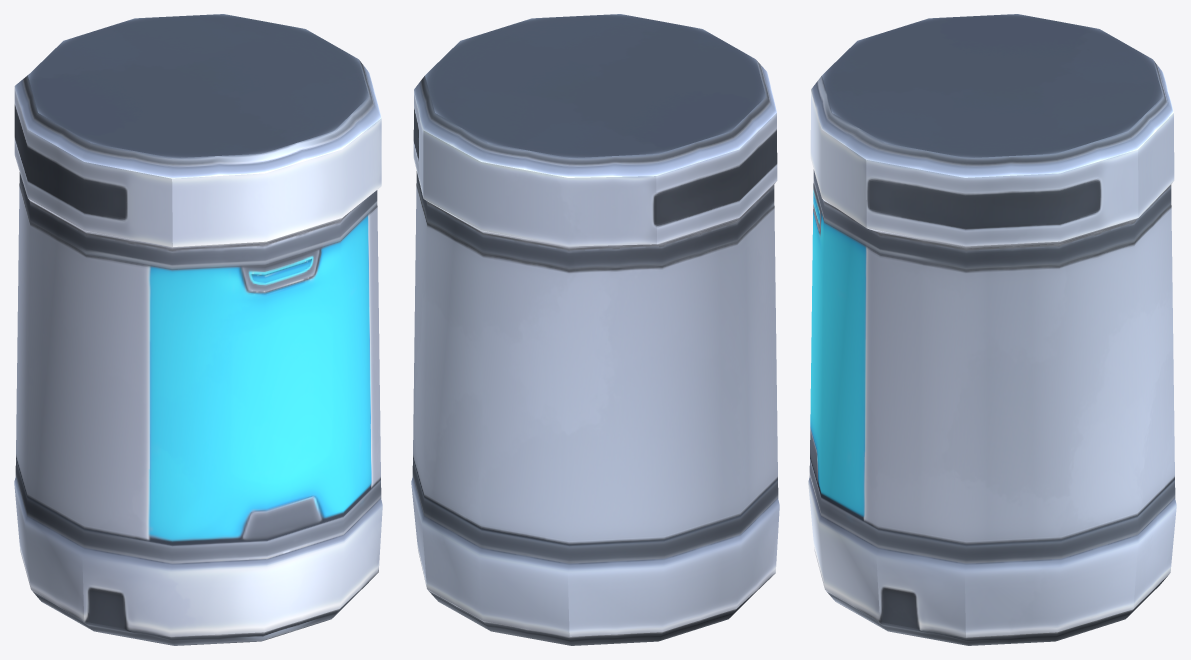
The model's file is obj_container.gltf.
3 renders of one model, left to right at view 1: azimuth 30°, elevation 25°; view 2: azimuth 150°, elevation 25°; view 3: azimuth 270°, elevation 25°, orthographic.
Visible parts, largest first — view 1: obj_container; view 2: obj_container; view 3: obj_container.
Part boxes in pixels (x1=…): obj_container: x1=14, y1=14, x2=382, y2=645; obj_container: x1=411, y1=14, x2=779, y2=645; obj_container: x1=808, y1=14, x2=1176, y2=645.
Size of what is drawn, in the model's own units: 0.2834 by 0.4149 by 0.2834.
Materials: 1 (1 with a texture image).
